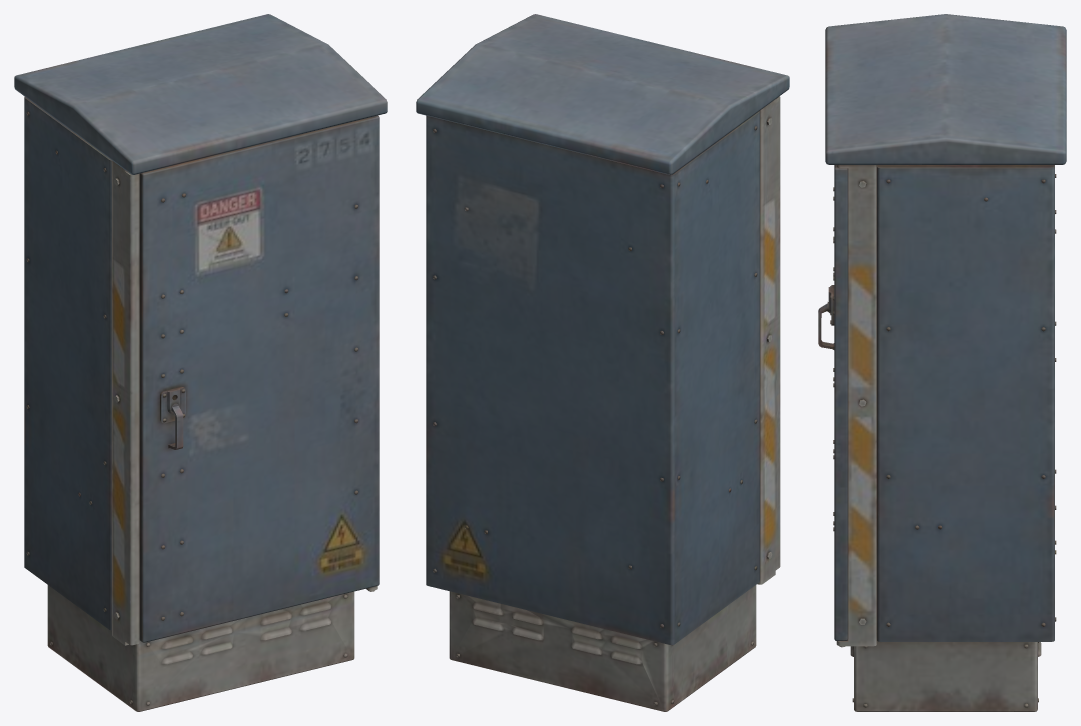
Rendered from utility_box_01.glb.
3 views of the same model, side by side, from view 1: azimuth 30°, elevation 25°; view 2: azimuth 150°, elevation 25°; view 3: azimuth 270°, elevation 25° (orthographic).
Parts seen in each view (by area): view 1: utility_box_01_box; view 2: utility_box_01_box; view 3: utility_box_01_box.
Boxes of the visible parts, bbox=[...] form: utility_box_01_box: bbox=[14, 14, 387, 711]; utility_box_01_box: bbox=[416, 14, 789, 711]; utility_box_01_box: bbox=[818, 14, 1066, 711].
Bounding box in the file's own units: 0.52 × 1.12 × 0.432.
Materials: 1 (1 with a texture image).
